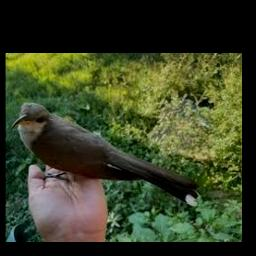Cuckoo: (11, 103, 199, 207)
